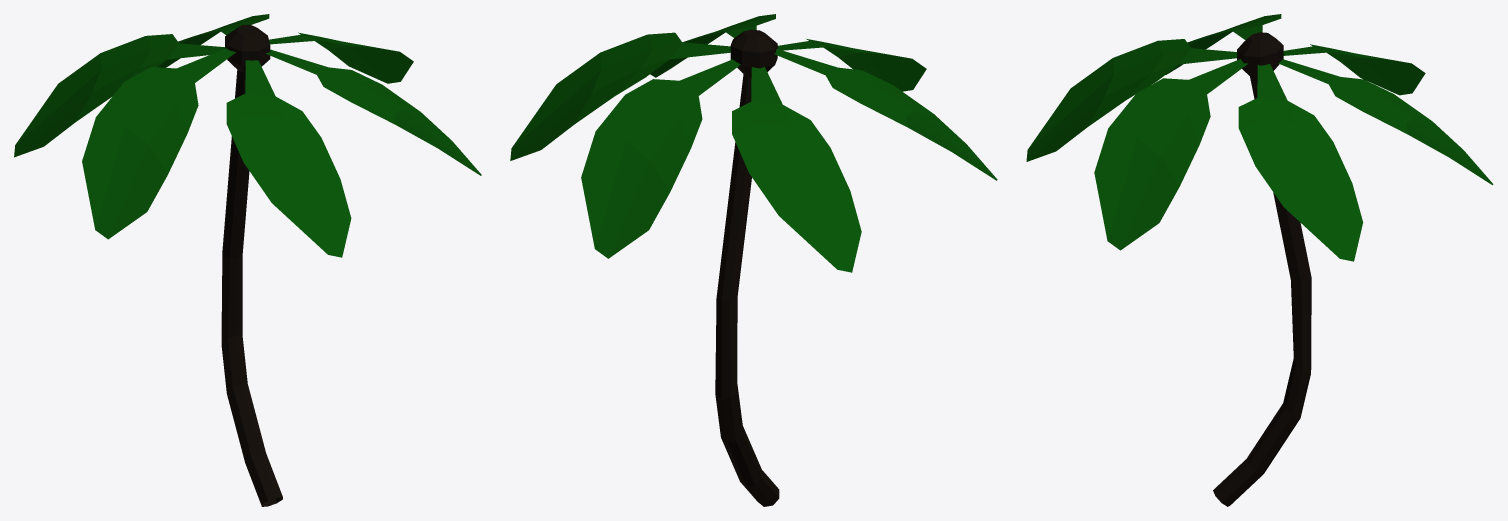
Rendered from palm.obj.
3 views of the same model, side by side, from view 1: azimuth 30°, elevation 25°; view 2: azimuth 150°, elevation 25°; view 3: azimuth 270°, elevation 25° (orthographic). The views are drawn at different scales.
Visible parts, largest first — view 1: Cylinder.001, Cylinder; view 2: Cylinder.001, Cylinder; view 3: Cylinder.001, Cylinder.
Boxes of the visible parts, <box> form: Cylinder.001: <box>14,14,481,257</box>; Cylinder: <box>221,24,282,506</box>; Cylinder.001: <box>510,14,997,272</box>; Cylinder: <box>715,29,779,506</box>; Cylinder.001: <box>1026,14,1493,261</box>; Cylinder: <box>1213,32,1311,506</box>.
Bounding box in the file's own units: 18.39 × 21.32 × 19.32.
